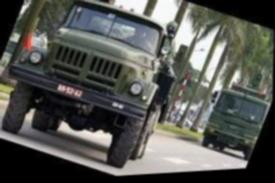License_Plate: (56, 80, 83, 103)
